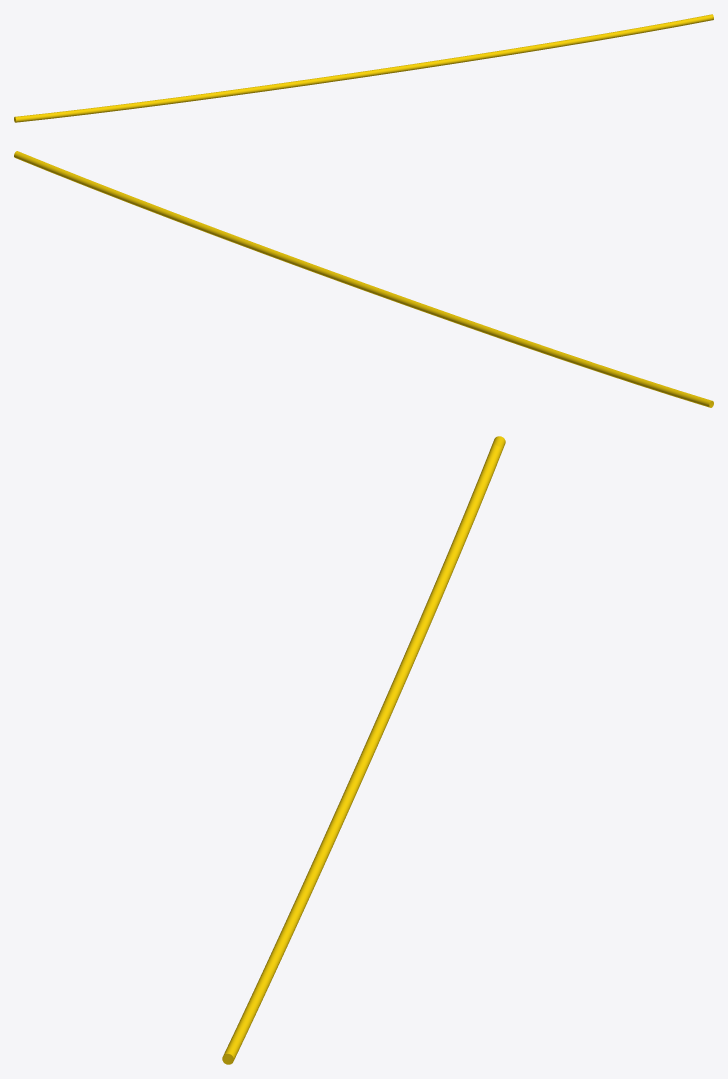
The model's file is Event_420107950_track_31.fbx.
3 renders of one model, top to bottom at view 1: azimuth 30°, elevation 25°; view 2: azimuth 150°, elevation 25°; view 3: azimuth 270°, elevation 25°, orthographic. The views are drawn at different scales.
Visible parts, largest first — view 1: Model; view 2: Model; view 3: Model.
Boxes of the visible parts, x1,y1,x2,y2 form: Model: [14, 14, 713, 122]; Model: [14, 151, 713, 407]; Model: [222, 436, 505, 1064].
Bounding box in the file's own units: 4.9 × 0.089 × 0.9525.
